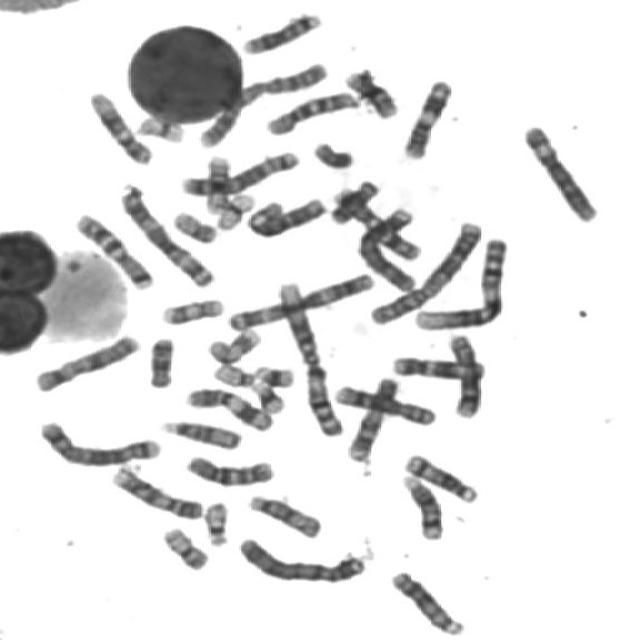A1: (271, 274, 347, 439), (407, 232, 510, 332)
A2: (362, 216, 486, 327), (190, 56, 329, 150)
A3: (113, 180, 217, 290), (221, 266, 377, 332)
B4: (231, 531, 369, 586), (351, 201, 419, 292)
B5: (33, 416, 164, 468), (175, 145, 302, 198)
C10: (259, 86, 362, 137), (179, 450, 277, 488)
C11: (180, 382, 277, 434), (396, 74, 454, 160)
C12: (82, 86, 154, 166), (387, 352, 488, 381)
C6: (517, 119, 601, 224), (240, 192, 328, 240)
C7: (327, 182, 423, 262), (66, 208, 154, 292)
C8: (328, 379, 439, 428), (441, 330, 485, 420)
C9: (106, 461, 206, 522), (341, 372, 401, 463)
D13: (386, 566, 466, 637), (238, 12, 329, 58)
D14: (398, 449, 480, 504), (396, 470, 446, 542)
D15: (242, 489, 324, 540), (154, 414, 243, 451)
E16: (339, 66, 400, 119), (199, 150, 234, 215)
E17: (201, 324, 262, 366), (156, 293, 226, 327)
E18: (325, 175, 381, 225), (142, 331, 177, 390)
F19: (210, 188, 257, 232), (131, 113, 187, 144)
F20: (157, 522, 211, 572), (167, 206, 219, 246)
G21: (246, 376, 286, 414), (250, 359, 297, 389)
G22: (199, 496, 231, 548), (208, 359, 258, 388)
X: (29, 329, 142, 394)
Y: (306, 137, 356, 170)
